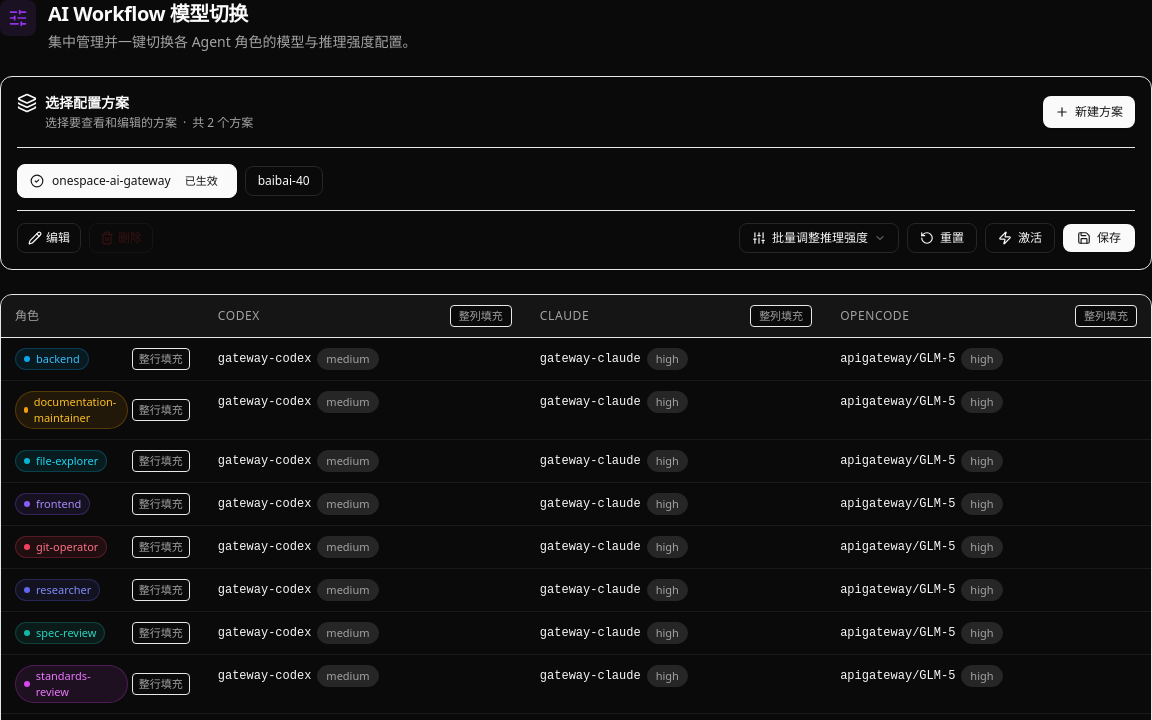
Test: AiWorkflowModelSwitcher 行为测试 › AC-004: 自动模型选项与单列降级 › 提供各工具列的去重排序自动模型选项
打开 backend-opencode 单元格编辑或下拉选择
Click the cell with test id "cell-backend-opencode": [989, 359] box [826, 338, 1151, 380]
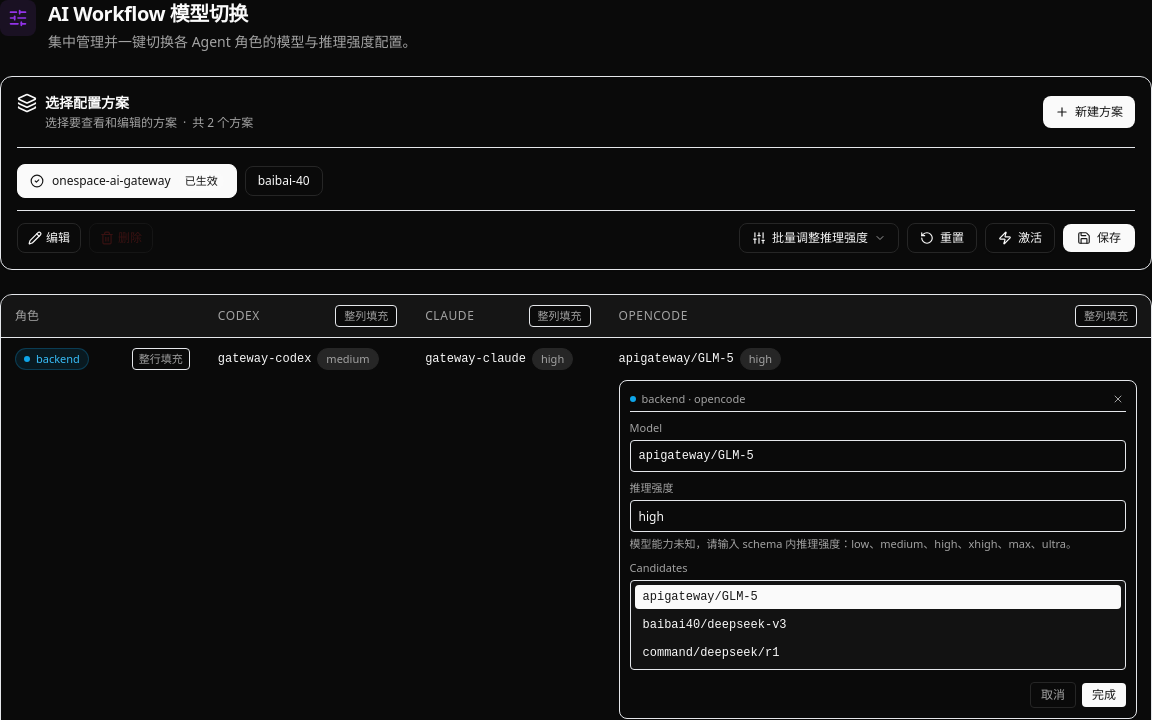
Expected: the element with test id "model-options-opencode" shows "apigateway/GLM-5", [634, 585, 1121, 609]
Expected: the element with test id "model-options-opencode" shows "baibai40/deepseek-v3", [634, 613, 1121, 637]
Expected: the element with test id "model-options-opencode" shows "command/deepseek/r1", [634, 641, 1121, 665]
